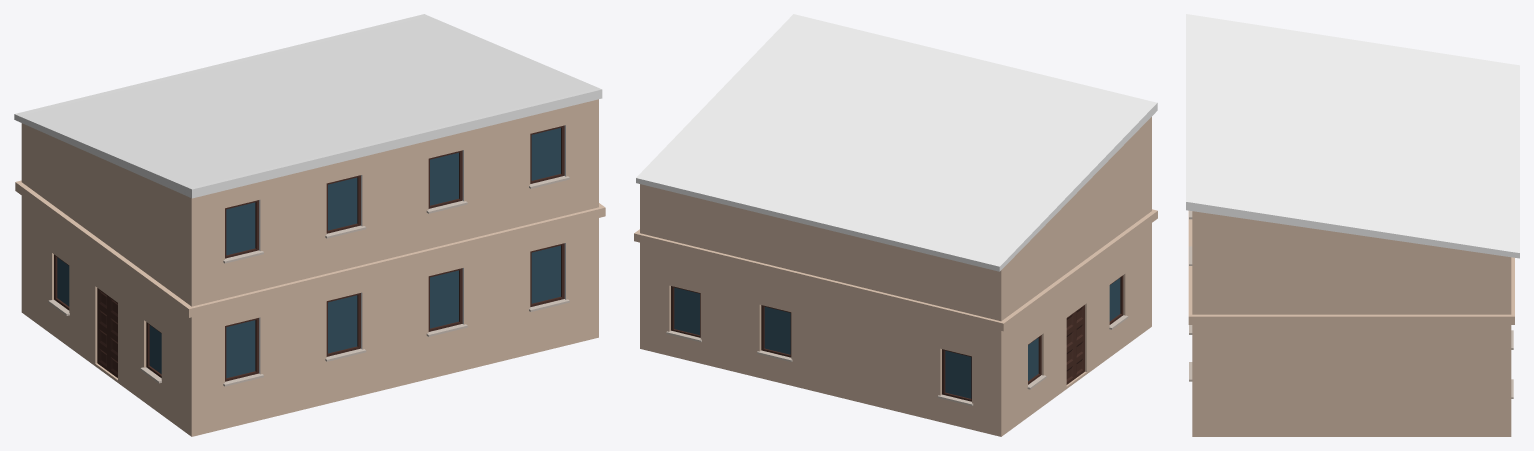
Rendered from PicduMidi_Edificio_tras_Torre_Vigilancia_01.fbx.
The picture shows the model from 3 angles, left to right: view 1: azimuth 30°, elevation 25°; view 2: azimuth 150°, elevation 25°; view 3: azimuth 270°, elevation 25°; orthographic projection. The views are drawn at different scales.
Parts seen in each view (by area): view 1: Edificiotraslatorredevigilancia; view 2: Edificiotraslatorredevigilancia; view 3: Edificiotraslatorredevigilancia.
Part boxes in pixels (left/top/right/bottom): Edificiotraslatorredevigilancia: left=14, top=14, right=605, bottom=436; Edificiotraslatorredevigilancia: left=634, top=14, right=1157, bottom=436; Edificiotraslatorredevigilancia: left=1186, top=14, right=1519, bottom=436.
Size of the model in its own units: 2609 by 1500 by 1929.
